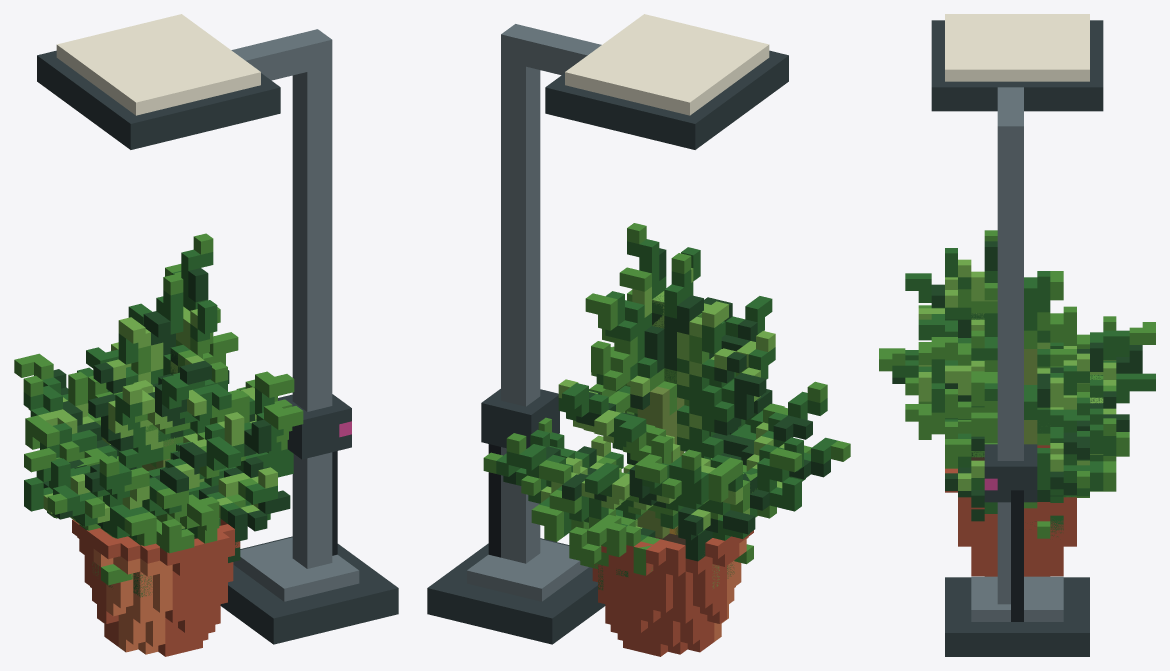
Rendered from starter_props.glb.
3 renders of one model, left to right at view 1: azimuth 30°, elevation 25°; view 2: azimuth 150°, elevation 25°; view 3: azimuth 270°, elevation 25°, orthographic. The views are drawn at different scales.
Visible parts, largest first — view 1: lamp_budget, foliage_bushy, foliage_medium, pot_empty, foliage_small, foliage_seedling; view 2: lamp_budget, foliage_bushy, foliage_medium, pot_empty, foliage_small; view 3: lamp_budget, foliage_bushy, foliage_medium, pot_empty, foliage_small, foliage_seedling.
Part boxes in pixels (left/top/right/bottom): lamp_budget: left=37, top=14, right=398, bottom=644; foliage_bushy: left=14, top=233, right=303, bottom=562; foliage_medium: left=23, top=274, right=294, bottom=543; pot_empty: left=72, top=519, right=240, bottom=656; foliage_small: left=24, top=345, right=287, bottom=542; foliage_seedling: left=92, top=562, right=152, bottom=597; lamp_budget: left=427, top=14, right=788, bottom=644; foliage_bushy: left=483, top=223, right=850, bottom=577; foliage_medium: left=506, top=253, right=827, bottom=575; pot_empty: left=592, top=530, right=753, bottom=656; foliage_small: left=538, top=313, right=801, bottom=540; lamp_budget: left=931, top=14, right=1103, bottom=656; foliage_bushy: left=879, top=241, right=1155, bottom=521; foliage_medium: left=905, top=230, right=1129, bottom=477; pot_empty: left=945, top=445, right=1076, bottom=576; foliage_small: left=945, top=301, right=1076, bottom=497; foliage_seedling: left=1032, top=515, right=1063, bottom=538.
Size of the model in its own units: 1.38 by 2.2 by 1.05.
2 materials, 2 textured.
